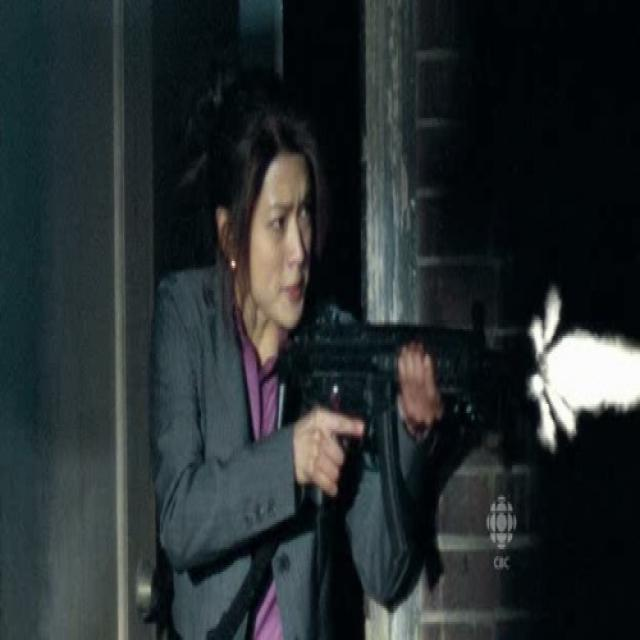rifle: (273, 303, 563, 574)
